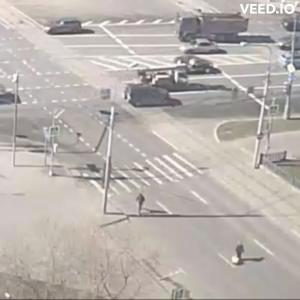car: (176, 10, 250, 44), (127, 85, 183, 111), (180, 56, 222, 76), (184, 40, 223, 57), (49, 19, 84, 37)
